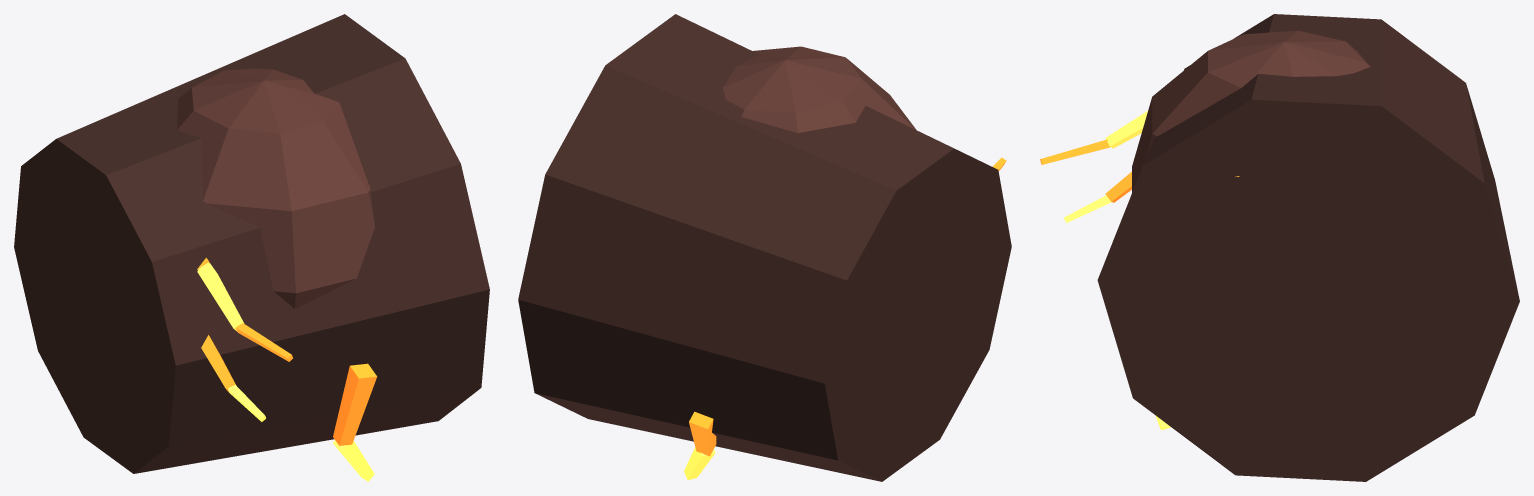
File: ember_giant_arm_r.glb
3 views of the same model, side by side, from view 1: azimuth 30°, elevation 25°; view 2: azimuth 150°, elevation 25°; view 3: azimuth 270°, elevation 25° (orthographic).
Visible parts, largest first — view 1: ember_giant_arm_r; view 2: ember_giant_arm_r; view 3: ember_giant_arm_r.
Boxes of the visible parts, bbox=[...] form: ember_giant_arm_r: bbox=[14, 14, 489, 481]; ember_giant_arm_r: bbox=[518, 14, 1011, 481]; ember_giant_arm_r: bbox=[1040, 14, 1519, 481].
Size of the model in its own units: 0.2951 by 0.3347 by 0.3857.
